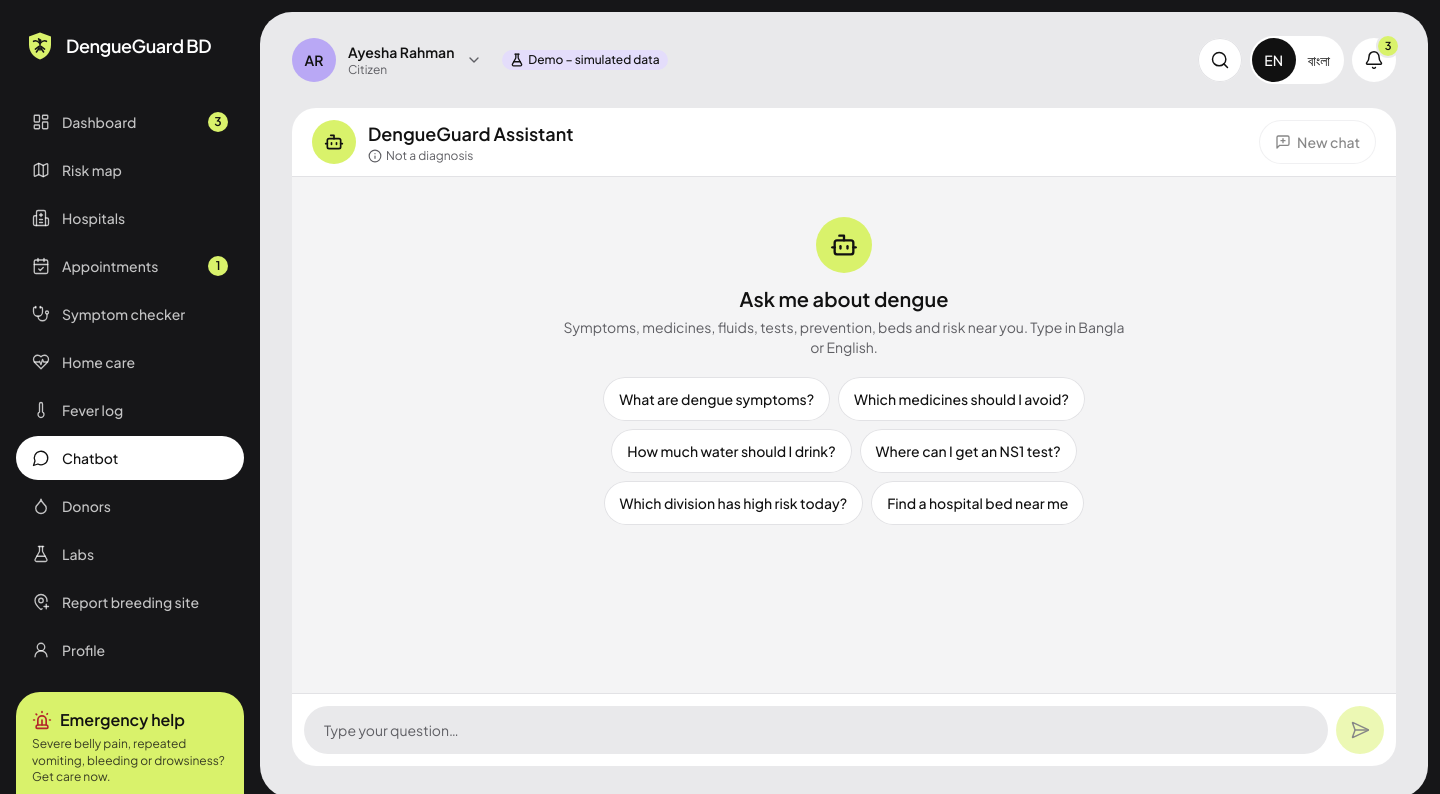
Chatbot (/chatbot) › uses Bangla digits in বাংলা mode
The image size is (1440, 794).
Click the button "বাংলা".
click(1319, 60)  # box left=1296, top=38, right=1342, bottom=82
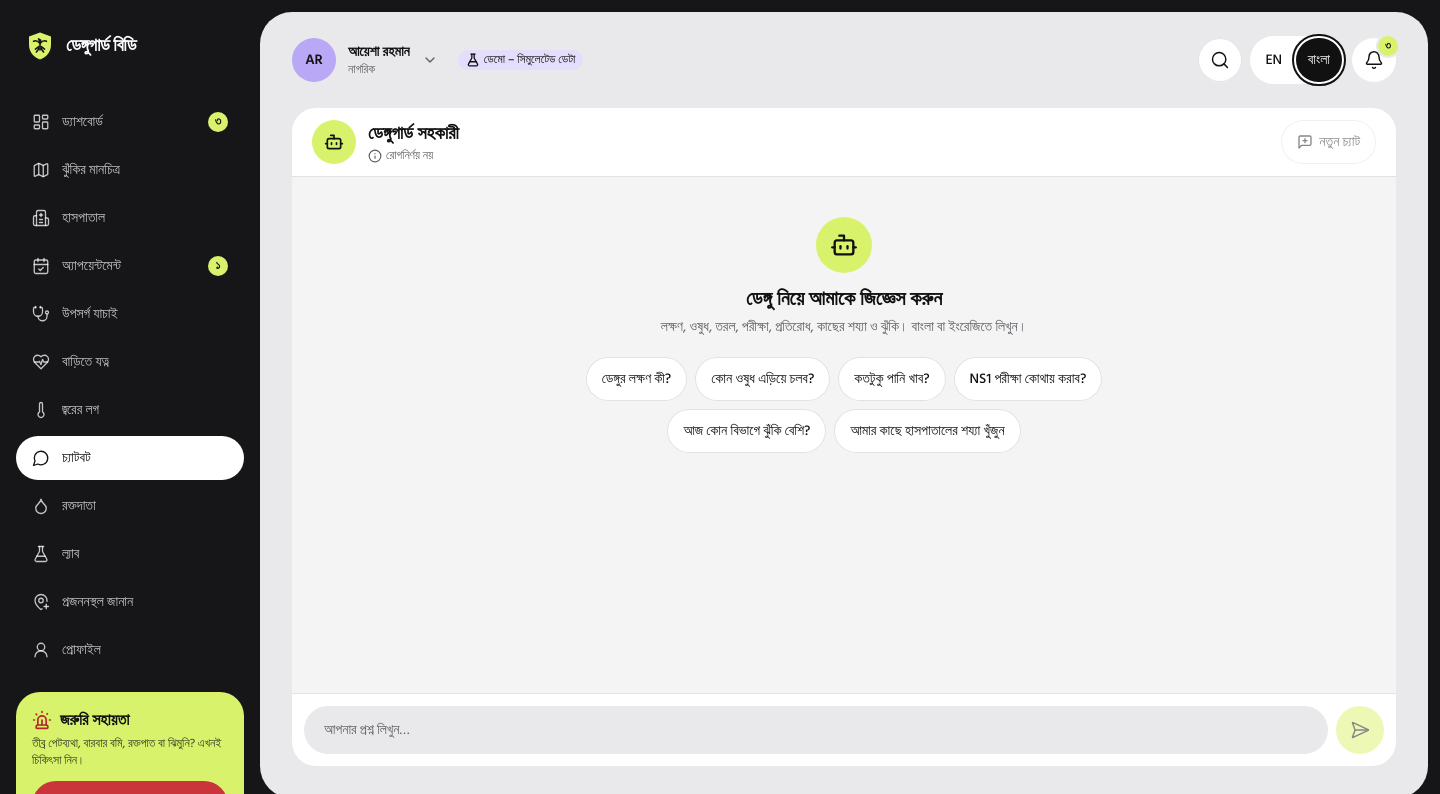
Click the button "আমার কাছে হাসপাতালের শয্যা খুঁজুন".
click(928, 431)  # box left=834, top=409, right=1021, bottom=453
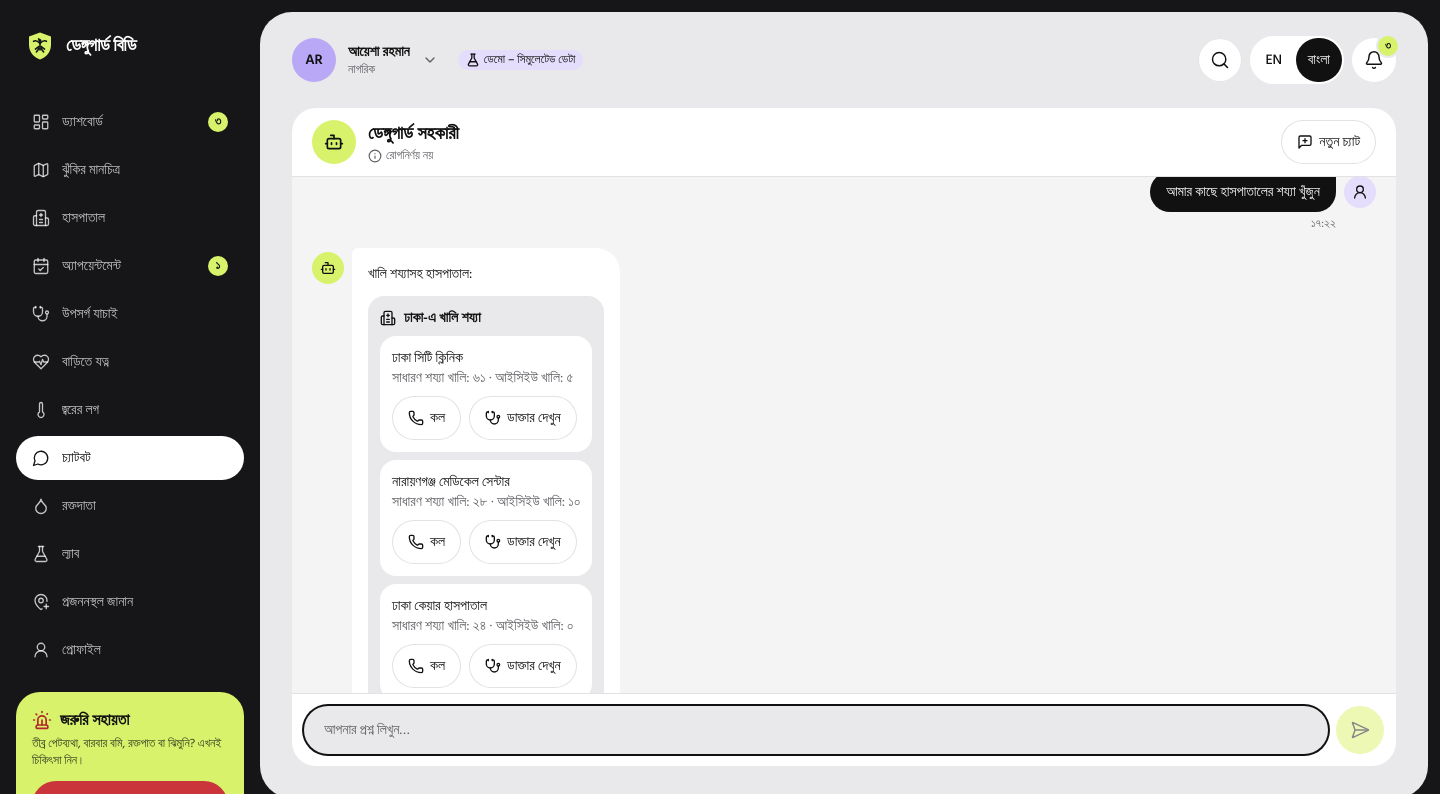
Expected: the text "সাধারণ শয্যা খালি: ৬১ · আইসিইউ খালি: ৫" is shown 3 times, left=392, top=368, right=580, bottom=388; left=392, top=492, right=580, bottom=512; left=392, top=616, right=580, bottom=636
